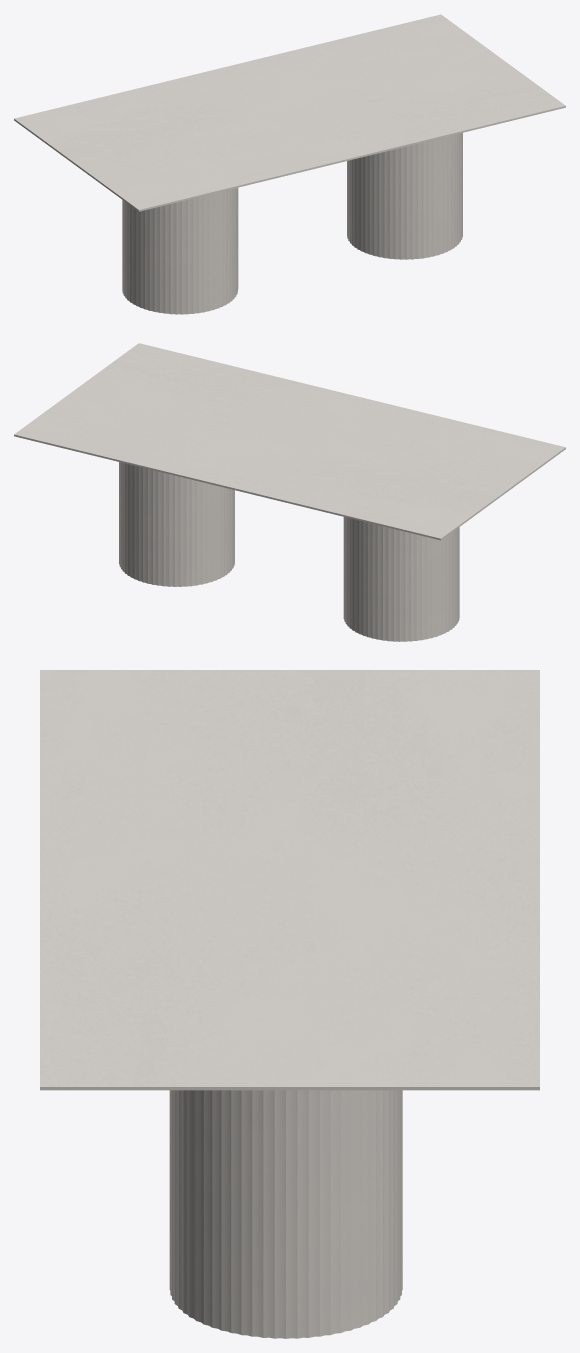
File: pearlwhite_recta_facet_ripplesecond.glb
3 views of the same model, one above another, from view 1: azimuth 30°, elevation 25°; view 2: azimuth 150°, elevation 25°; view 3: azimuth 270°, elevation 25° (orthographic). The views are drawn at different scales.
Visible parts, largest first — view 1: facet_recta, ripplesecond; view 2: facet_recta, ripplesecond; view 3: facet_recta, ripplesecond.
Part boxes in pixels (<box>): facet_recta: <box>14,14,565,211</box>; ripplesecond: <box>122,133,462,314</box>; facet_recta: <box>14,343,565,540</box>; ripplesecond: <box>119,462,459,641</box>; facet_recta: <box>40,670,539,1090</box>; ripplesecond: <box>169,1090,402,1338</box>.
Bounding box in the file's own units: 7.5 × 2.52 × 3.8.
1 material, 1 textured.
